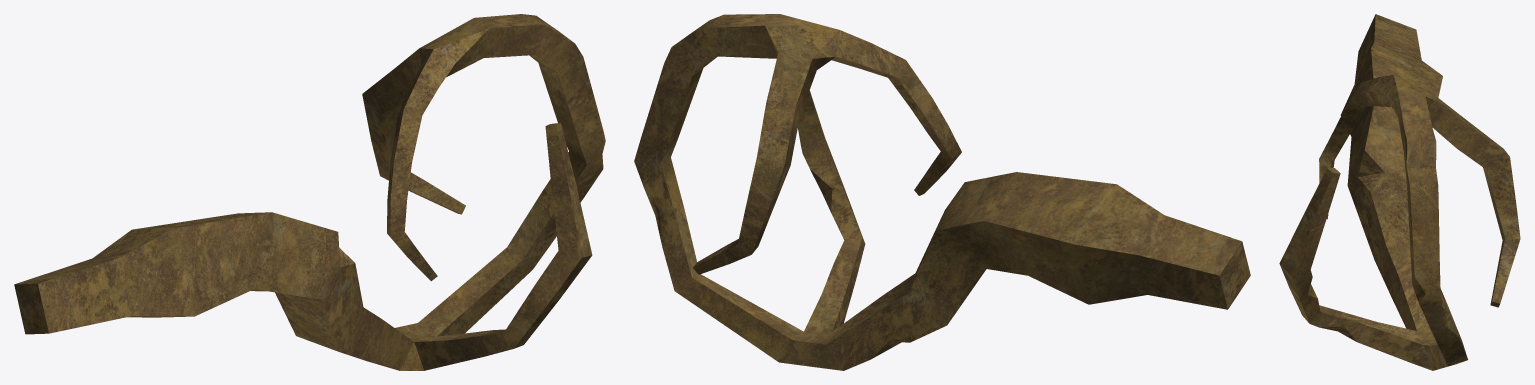
Rendered from mg_12_light_0.fbx.
The picture shows the model from 3 angles, left to right: view 1: azimuth 30°, elevation 25°; view 2: azimuth 150°, elevation 25°; view 3: azimuth 270°, elevation 25°; orthographic projection. The views are drawn at different scales.
Visible parts, largest first — view 1: mg_12_light_0; view 2: mg_12_light_0; view 3: mg_12_light_0.
Boxes of the visible parts, x1,y1,x2,y2 form: mg_12_light_0: (14,14,605,370); mg_12_light_0: (634,14,1250,370); mg_12_light_0: (1279,14,1520,370).
Bounding box in the file's own units: 65.18 × 34.97 × 26.68.
